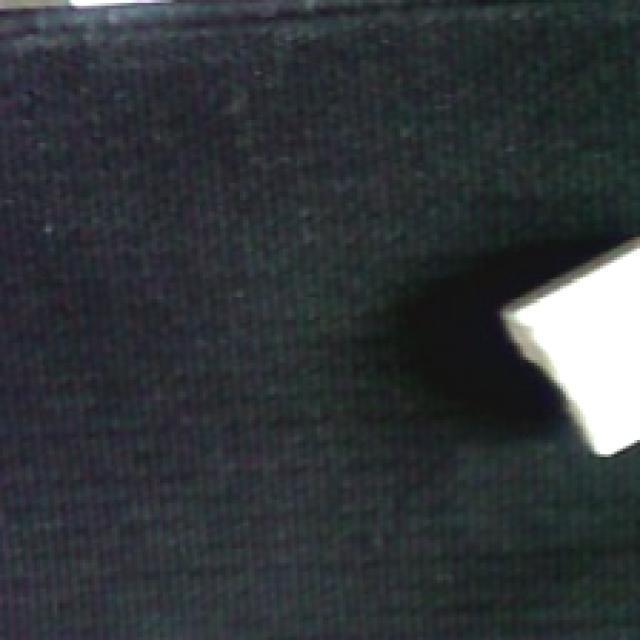defected: (494, 243, 640, 466)
